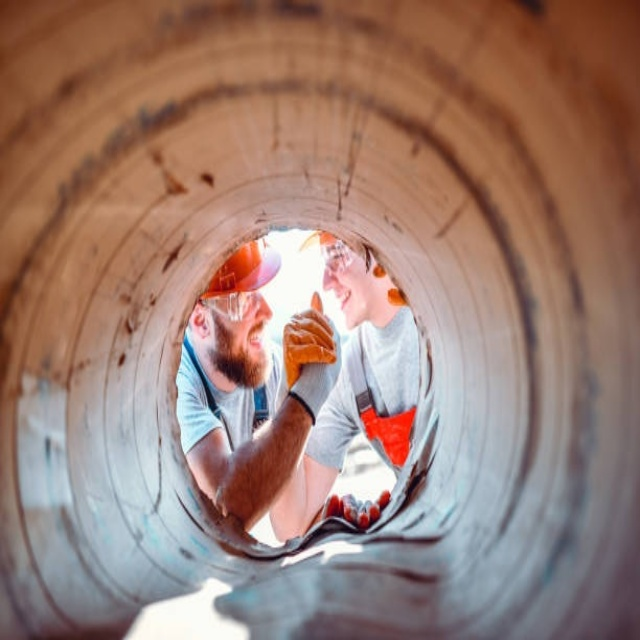Gafas: (198, 287, 262, 322), (318, 237, 363, 275)
Guantes: (282, 300, 340, 414), (325, 490, 391, 528)
Sin_mascara: (236, 322, 272, 380), (330, 284, 366, 328)
